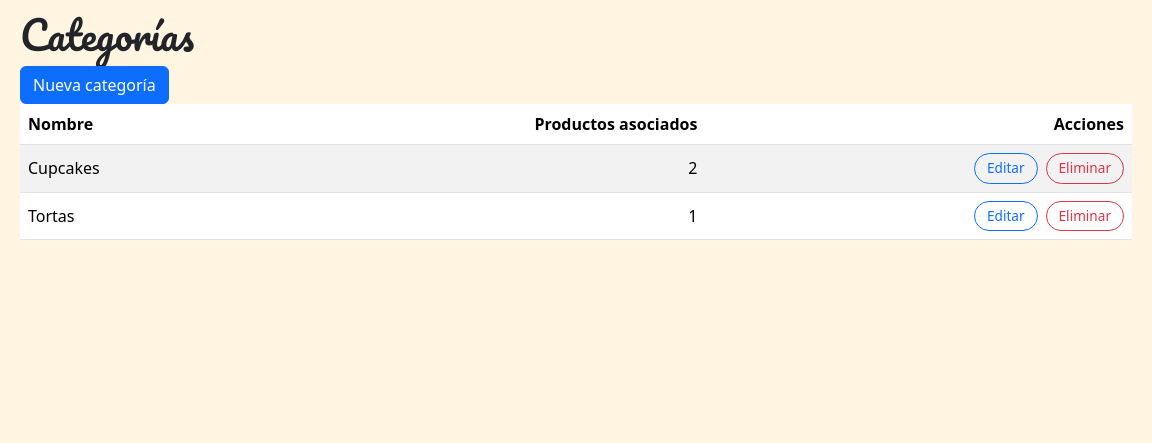
Test case: Admin - Categories › TAU-Admin 25: Permite editar una categoría existente
Expected: the text "Tortas" is shown, top-left (20, 192), bottom-right (245, 239)
Click the button "Editar" in the row of "Cupcakes": (1006, 168) top-left (974, 153), bottom-right (1038, 184)
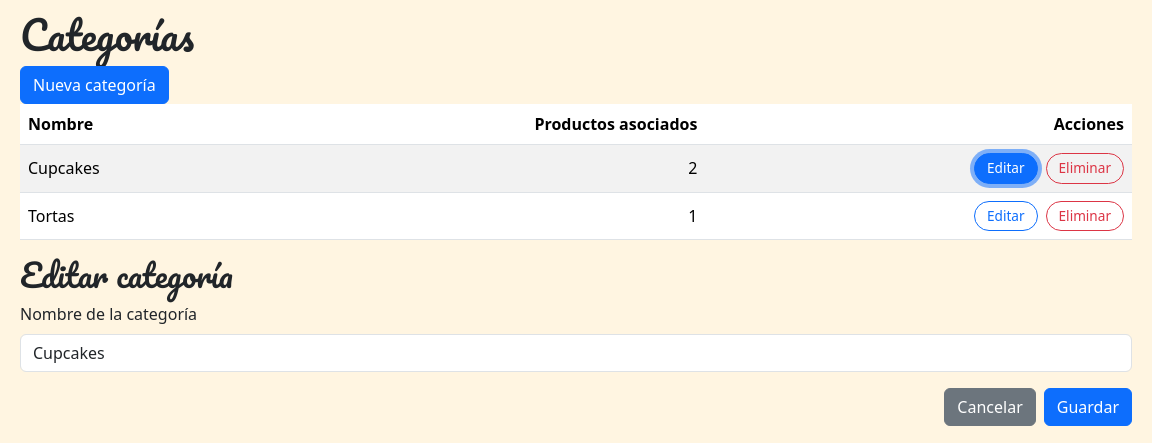
Replace the text in the field with "Tortas Editadas": (576, 353) top-left (20, 334), bottom-right (1132, 372)
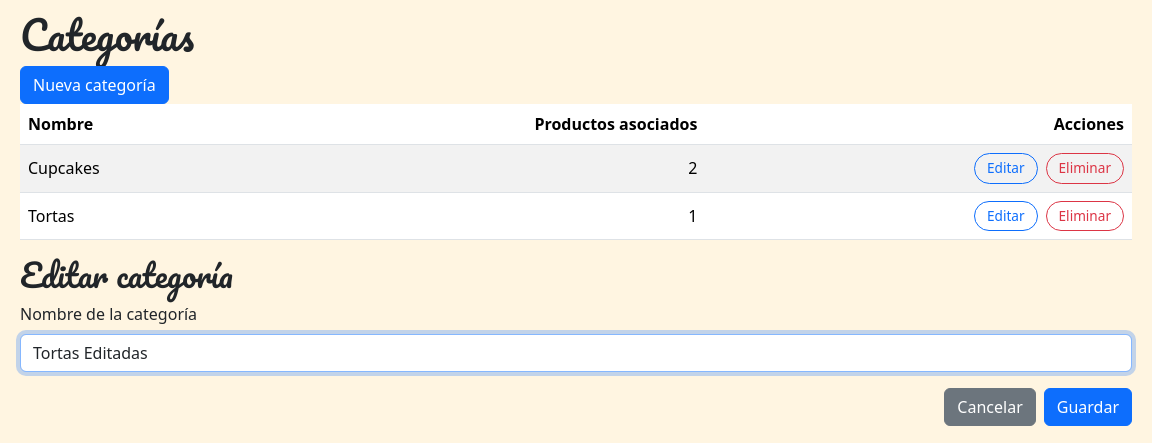
Click the button "Guardar": (1088, 407) top-left (1044, 388), bottom-right (1132, 426)
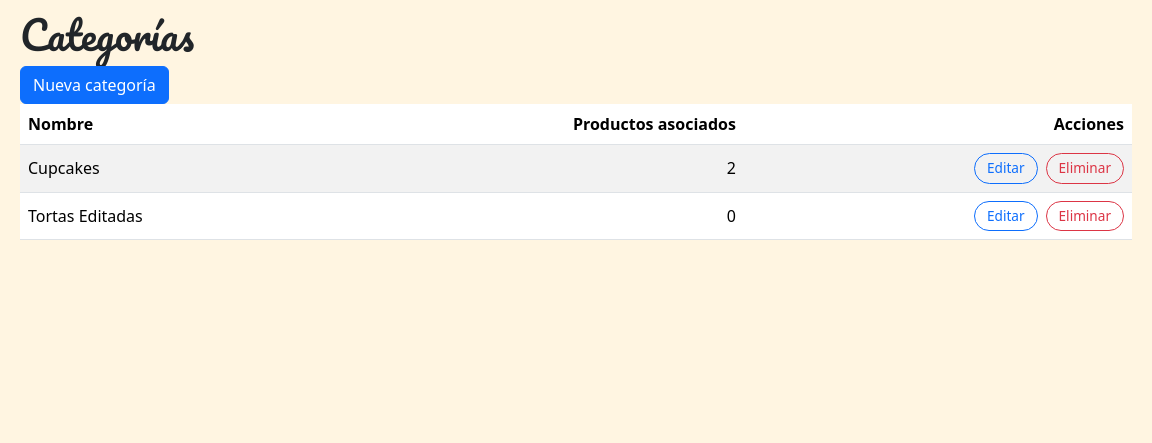
Now the text "Tortas Editadas" is shown, box top-left (20, 192), bottom-right (326, 239)
